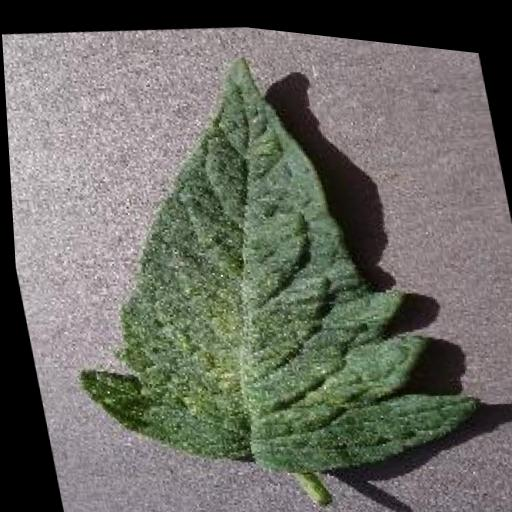Spider Mites: (10, 1, 491, 512)
